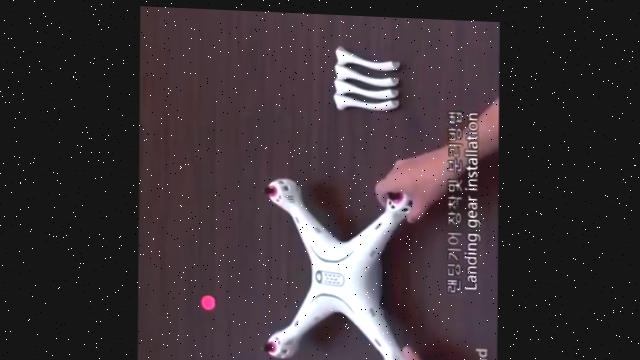drone: (259, 164, 422, 360)
